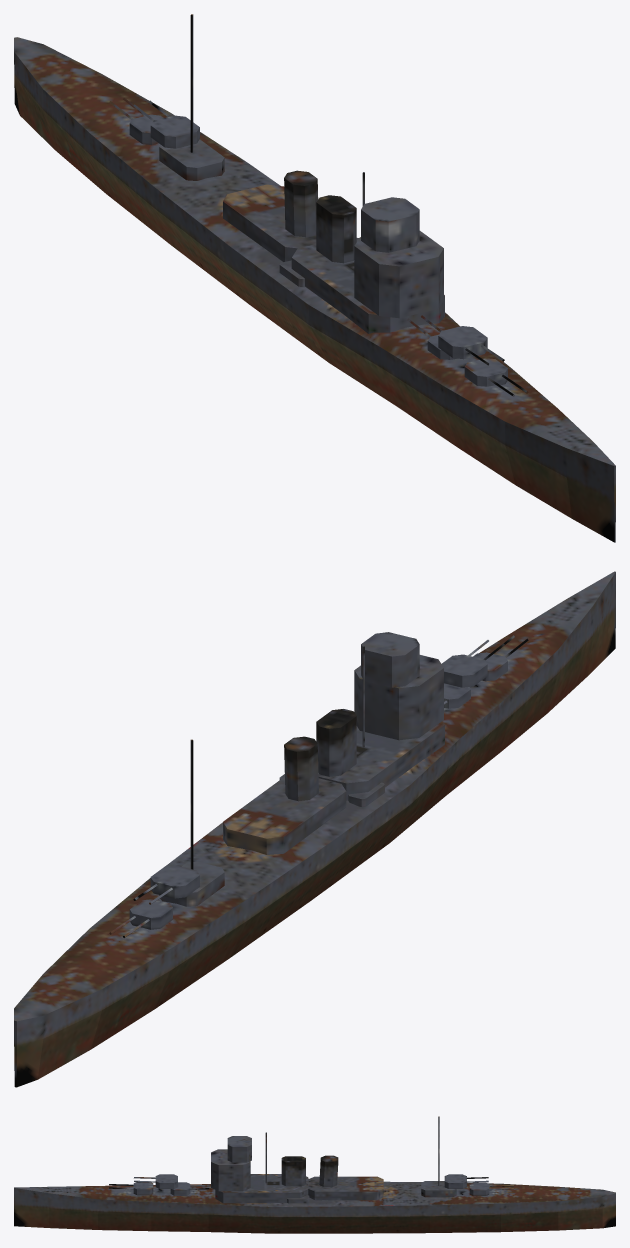
File: simple-far.glb
The picture shows the model from 3 angles, top to bottom: view 1: azimuth 30°, elevation 25°; view 2: azimuth 150°, elevation 25°; view 3: azimuth 270°, elevation 25°; orthographic projection. The views are drawn at different scales.
Visible parts, largest first — view 1: New escort hull.001, New escort deck.001, Bridge tier 0.001, Deckhouse 0.001, Deckhouse 1.001, Bridge tier 1.001, Funnel 0.001, Funnel 1.001, Deckhouse 2.001, Main turret TurretShape7.001, Main turret TurretShape8.001, Main turret TurretShape.001; view 2: New escort hull.001, New escort deck.001, Deckhouse 1.001, Bridge tier 0.001, Deckhouse 0.001, Bridge tier 1.001, Funnel 0.001, Funnel 1.001, Main turret TurretShape8.001, Deckhouse 2.001, Main turret TurretShape7.001, Main turret TurretShape2.001; view 3: New escort hull.001, New escort deck.001, Deckhouse 0.001, Deckhouse 1.001, Bridge tier 0.001, Funnel 0.001, Bridge tier 1.001, Funnel 1.001, Deckhouse 2.001, Main turret TurretShape7.001, Main turret TurretShape8.001, Main turret TurretShape2.001 (+2 smaller).
Part boxes in pixels (x1,y1,x2,y2): New escort hull.001: (14, 52, 615, 542); New escort deck.001: (14, 37, 615, 465); Bridge tier 0.001: (354, 231, 443, 318); Deckhouse 0.001: (291, 238, 444, 333); Deckhouse 1.001: (223, 184, 316, 261); Bridge tier 1.001: (361, 197, 419, 252); Funnel 0.001: (316, 195, 356, 263); Funnel 1.001: (284, 170, 318, 237); Deckhouse 2.001: (159, 139, 224, 180); Main turret TurretShape7.001: (438, 326, 487, 359); Main turret TurretShape8.001: (150, 115, 199, 148); Main turret TurretShape.001: (464, 358, 507, 386); New escort hull.001: (14, 572, 615, 1087); New escort deck.001: (14, 571, 615, 1021); Deckhouse 1.001: (223, 776, 346, 854); Bridge tier 0.001: (354, 655, 443, 740); Deckhouse 0.001: (318, 721, 444, 800); Bridge tier 1.001: (361, 632, 419, 687); Funnel 0.001: (316, 709, 356, 776); Funnel 1.001: (284, 736, 318, 801); Main turret TurretShape8.001: (150, 865, 199, 898); Deckhouse 2.001: (159, 861, 224, 906); Main turret TurretShape7.001: (441, 654, 487, 687); Main turret TurretShape2.001: (129, 899, 172, 929); New escort hull.001: (14, 1188, 615, 1233); New escort deck.001: (14, 1181, 615, 1206); Deckhouse 0.001: (215, 1174, 308, 1203); Deckhouse 1.001: (308, 1176, 383, 1200); Bridge tier 0.001: (211, 1149, 250, 1191); Funnel 0.001: (281, 1156, 305, 1186); Bridge tier 1.001: (227, 1136, 251, 1162); Funnel 1.001: (319, 1155, 338, 1186); Deckhouse 2.001: (421, 1181, 456, 1197); Main turret TurretShape7.001: (155, 1174, 177, 1188); Main turret TurretShape8.001: (444, 1174, 466, 1188); Main turret TurretShape2.001: (469, 1182, 489, 1195).
Bounding box in the file's own units: 13.34 × 27.3 × 136.
1 material, 1 textured.
